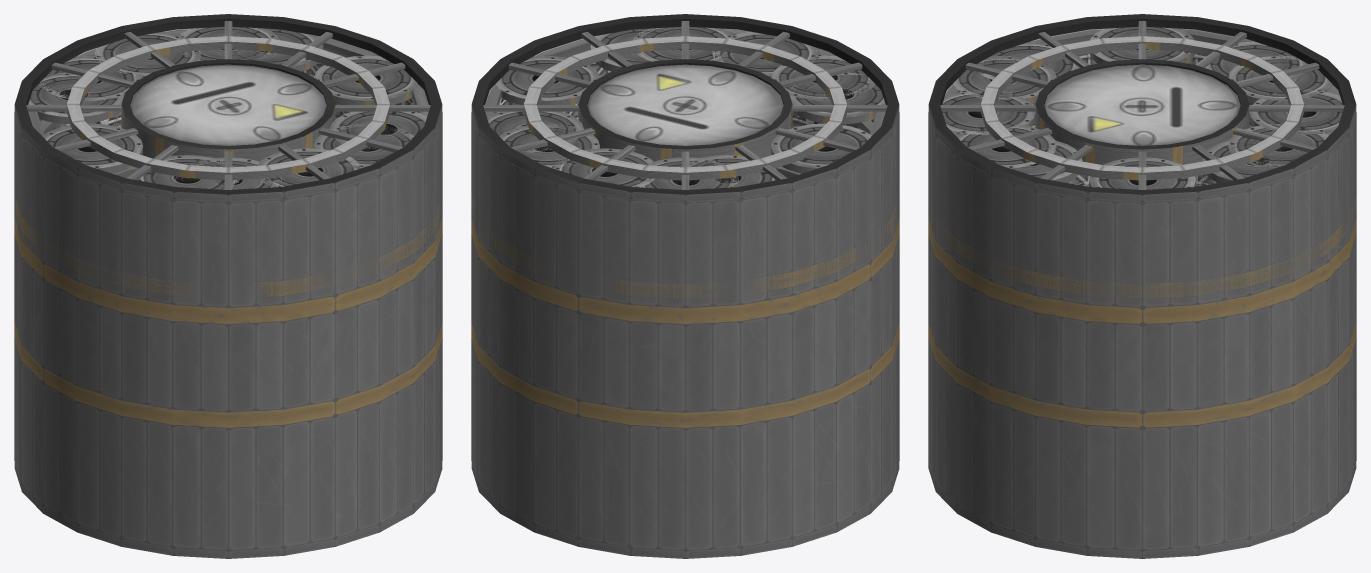
3 views of the same model, side by side, from view 1: azimuth 30°, elevation 25°; view 2: azimuth 150°, elevation 25°; view 3: azimuth 270°, elevation 25° (orthographic).
Parts seen in each view (by area): view 1: ShroudTube (×2), ShroudTube001, ThrusterPlate, LowerSupportRing011, SingleEngineFrame001, LowerSupportRing013, ThrusterPlate015, ThrusterPlate023, ThrusterPlate025, ThrusterPlate008, ThrusterPlate012, ThrusterPlate017 (+16 smaller); view 2: ShroudTube (×2), ShroudTube001, ThrusterPlate, LowerSupportRing011, SingleEngineFrame001, LowerSupportRing013, ThrusterPlate022, ThrusterPlate013, ThrusterPlate015, ThrusterPlate016, ThrusterPlate011, ThrusterPlate014 (+17 smaller); view 3: ShroudTube (×2), ShroudTube001, ThrusterPlate, LowerSupportRing011, SingleEngineFrame001, LowerSupportRing013, ThrusterPlate010, ThrusterPlate008, ThrusterPlate013, ThrusterPlate017, ThrusterPlate014, ThrusterPlate012 (+16 smaller).
Part boxes in pixels (left/top/right/bottom): ShroudTube (×2): left=14, top=28, right=442, bottom=551; ShroudTube001: left=14, top=116, right=442, bottom=299; ThrusterPlate: left=121, top=59, right=335, bottom=161; LowerSupportRing011: left=14, top=14, right=442, bottom=202; SingleEngineFrame001: left=66, top=36, right=390, bottom=180; LowerSupportRing013: left=14, top=462, right=442, bottom=558; ThrusterPlate015: left=314, top=55, right=418, bottom=104; ThrusterPlate023: left=28, top=72, right=125, bottom=123; ThrusterPlate025: left=330, top=111, right=426, bottom=151; ThrusterPlate008: left=94, top=31, right=201, bottom=77; ThrusterPlate012: left=44, top=124, right=142, bottom=168; ThrusterPlate017: left=38, top=55, right=142, bottom=100; ShroudTube (×2): left=471, top=28, right=899, bottom=551; ShroudTube001: left=471, top=113, right=899, bottom=299; ThrusterPlate: left=578, top=59, right=792, bottom=161; LowerSupportRing011: left=471, top=14, right=899, bottom=202; SingleEngineFrame001: left=523, top=36, right=847, bottom=180; LowerSupportRing013: left=471, top=462, right=899, bottom=558; ThrusterPlate022: left=789, top=72, right=885, bottom=124; ThrusterPlate013: left=771, top=55, right=875, bottom=100; ThrusterPlate015: left=495, top=56, right=598, bottom=100; ThrusterPlate016: left=499, top=123, right=599, bottom=168; ThrusterPlate011: left=495, top=55, right=599, bottom=104; ThrusterPlate014: left=633, top=26, right=736, bottom=61; ShroudTube (×2): left=928, top=28, right=1356, bottom=551; ShroudTube001: left=928, top=114, right=1356, bottom=299; ThrusterPlate: left=1035, top=59, right=1249, bottom=164; LowerSupportRing011: left=928, top=14, right=1356, bottom=202; SingleEngineFrame001: left=980, top=36, right=1304, bottom=180; LowerSupportRing013: left=928, top=461, right=1356, bottom=558; ThrusterPlate010: left=942, top=89, right=1035, bottom=134; ThrusterPlate008: left=1249, top=89, right=1342, bottom=134; ThrusterPlate013: left=952, top=55, right=1056, bottom=104; ThrusterPlate017: left=1228, top=55, right=1332, bottom=104; ThrusterPlate014: left=956, top=124, right=1056, bottom=168; ThrusterPlate012: left=1090, top=27, right=1194, bottom=63.
Size of what is drawn, in the model's own units: 2.5 by 2.35 by 2.5.
